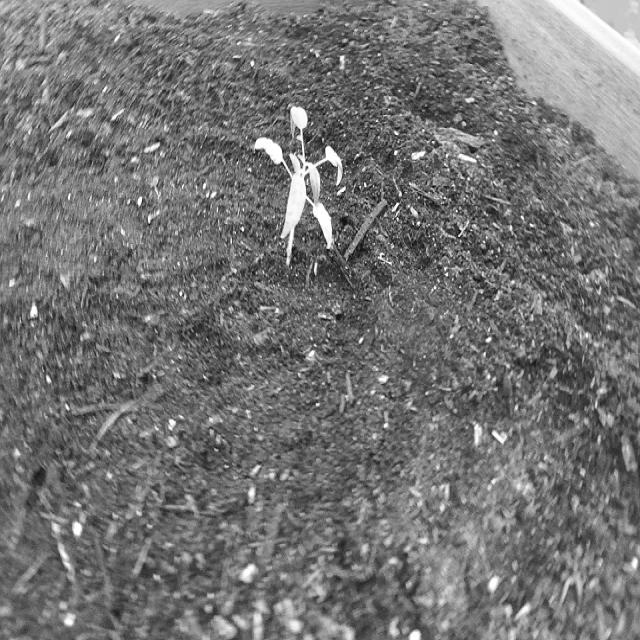Healthy: (252, 100, 346, 272)
